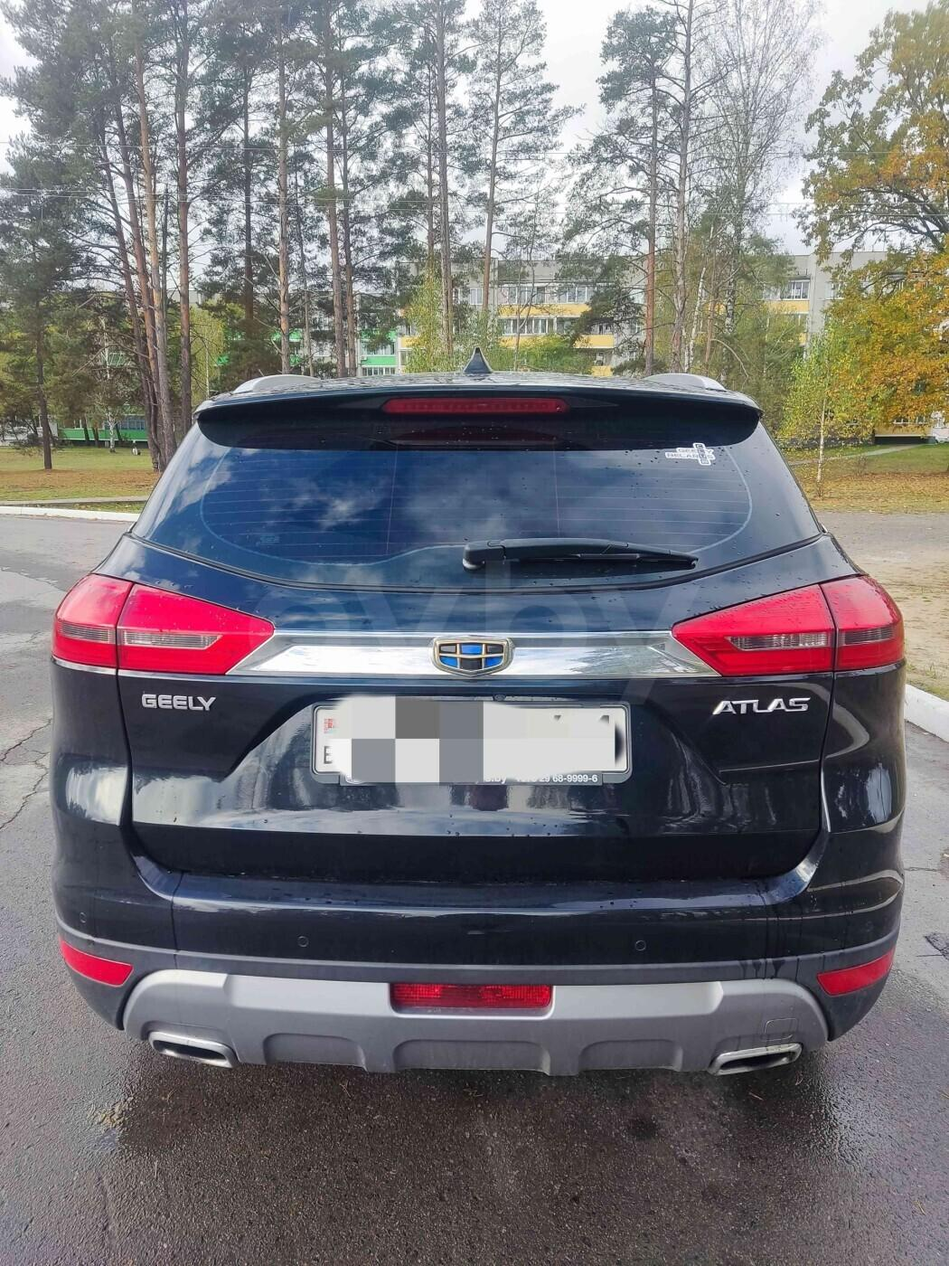Atlas_2016-2023: (47, 362, 913, 1132)
